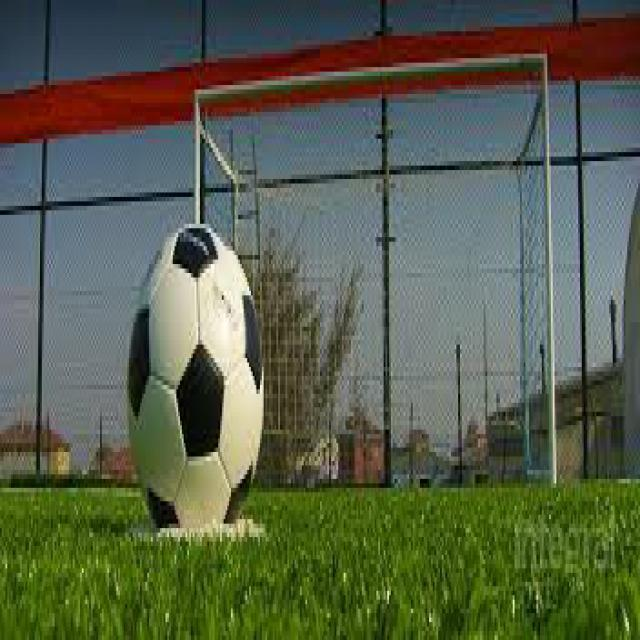ball: (122, 218, 269, 536)
